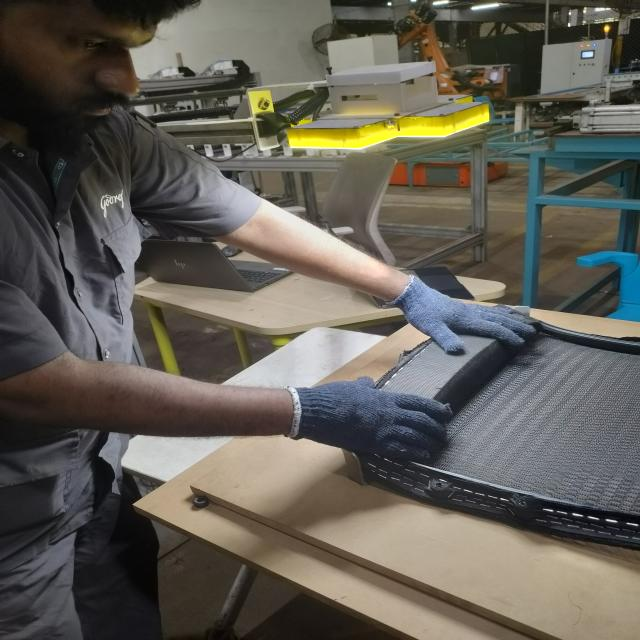Gloves-Detection: (279, 372, 459, 479), (386, 270, 524, 348)
